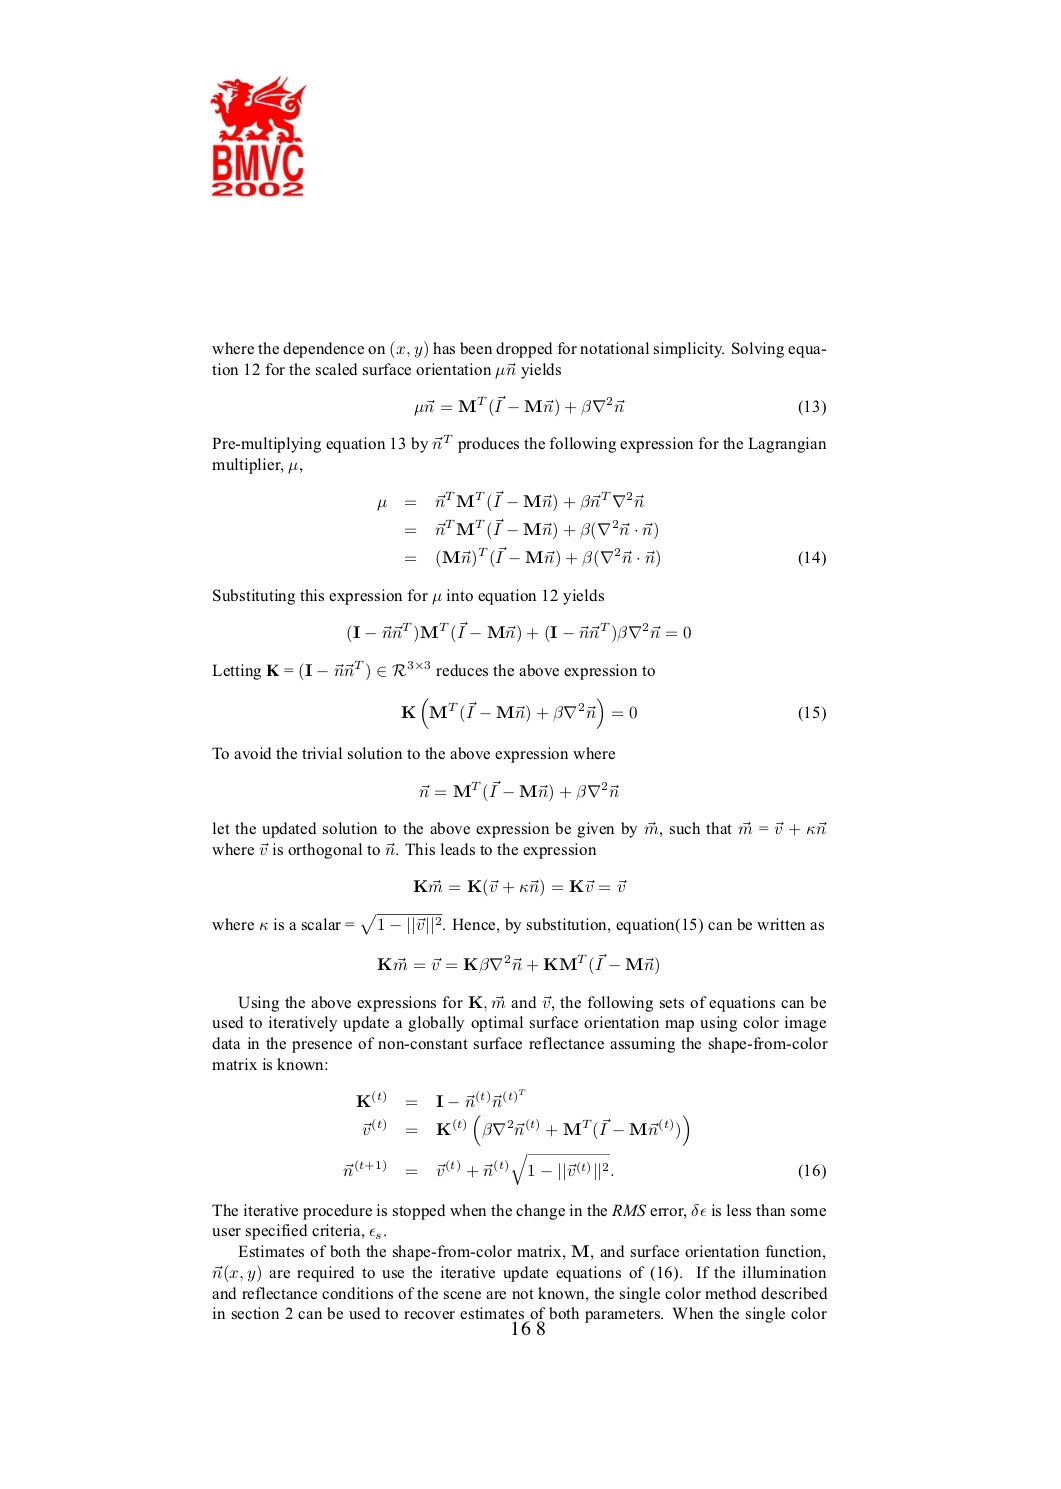figure: (210, 73, 305, 197)
formula: (343, 1151, 824, 1185), (401, 697, 824, 729), (362, 1114, 689, 1146), (405, 546, 824, 568), (415, 395, 824, 417), (347, 621, 690, 643), (377, 953, 658, 975), (377, 490, 643, 512), (405, 518, 657, 540), (419, 780, 618, 802), (413, 878, 626, 897), (356, 1088, 525, 1108)
